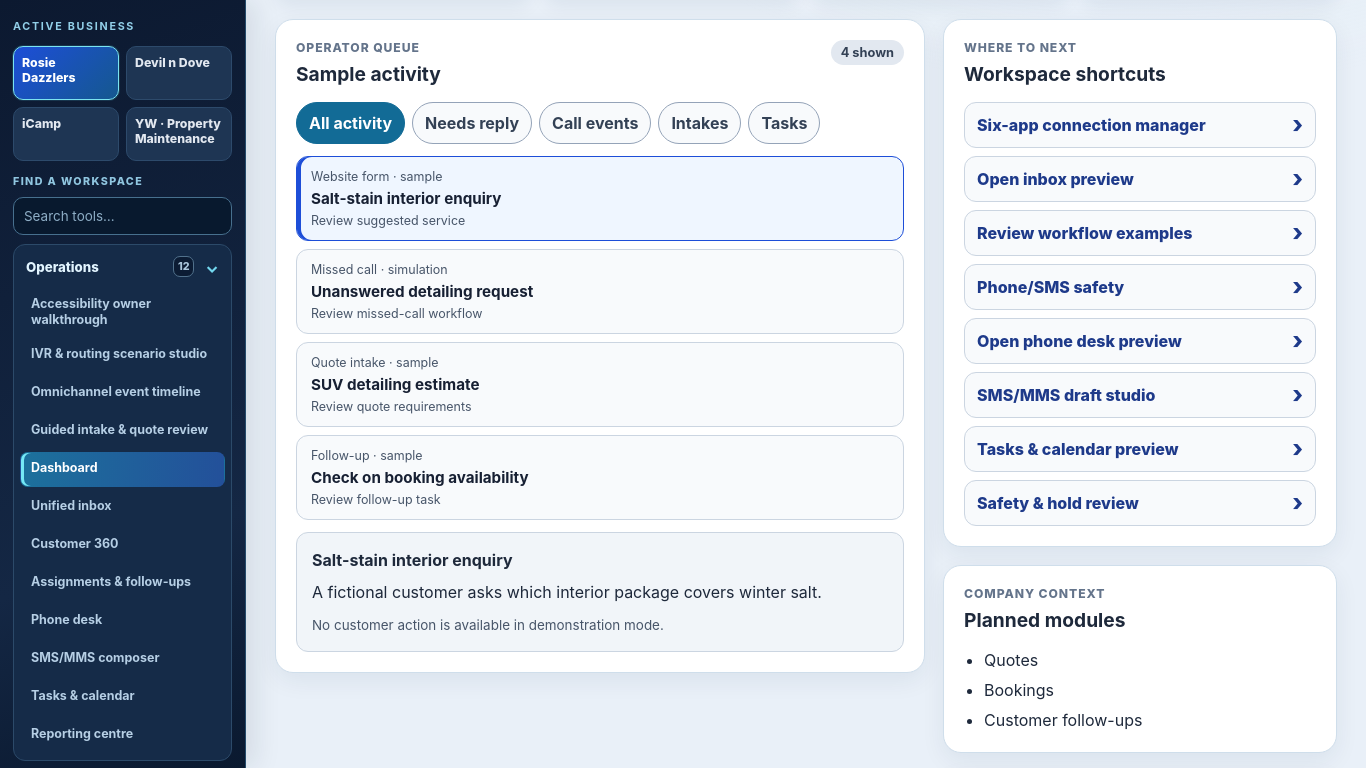
QL-191 operator console › selects a sample queue item and exposes its detail without sending anything
The image size is (1366, 768).
(page scrolled)
What coordinates should you click on to do the following:
click the button that starts with "Quote intake · sample"
I would click on:
 (375, 363)
Its box is [296, 342, 904, 427].
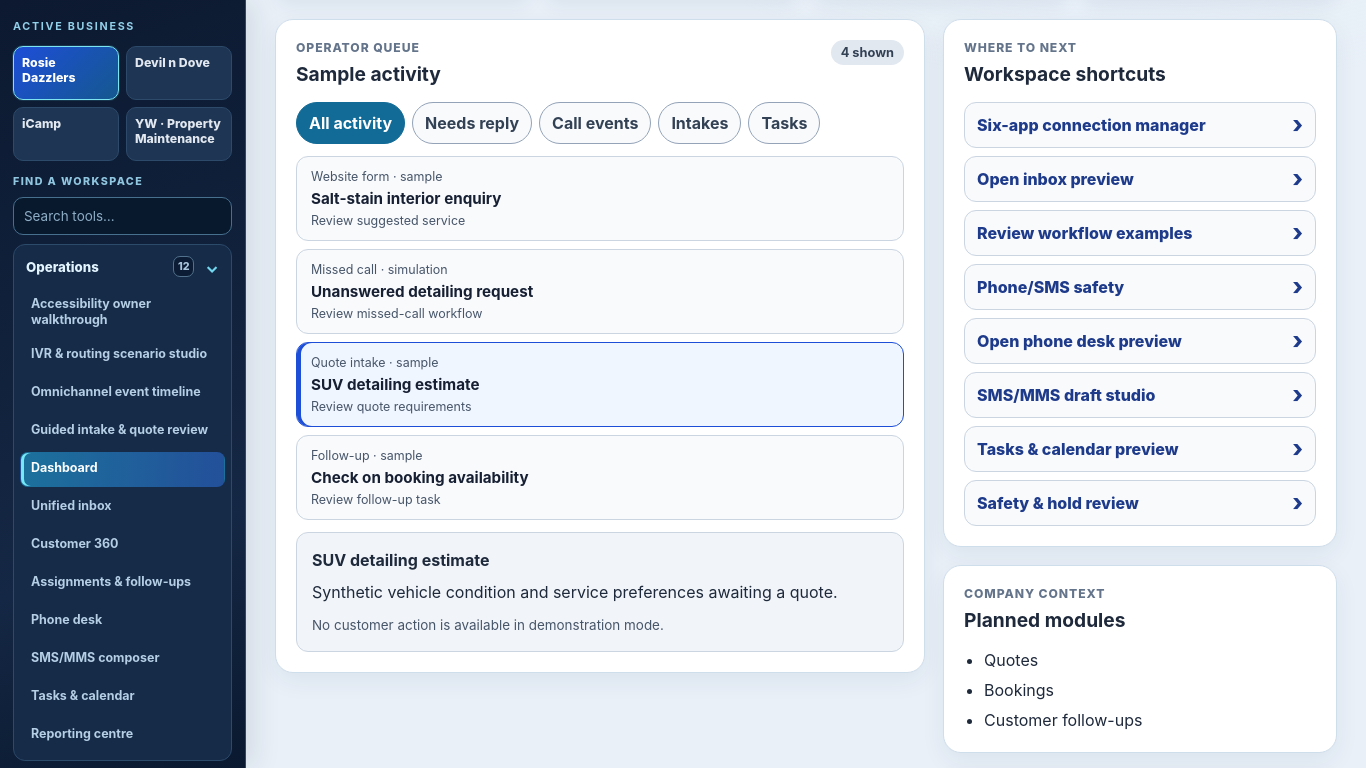
Expected: the element named "Selected synthetic activity" shows "No customer action is available", [312, 617, 664, 633]
Now the element named "Selected synthetic activity" shows "Synthetic vehicle condition", box [312, 582, 838, 602]
